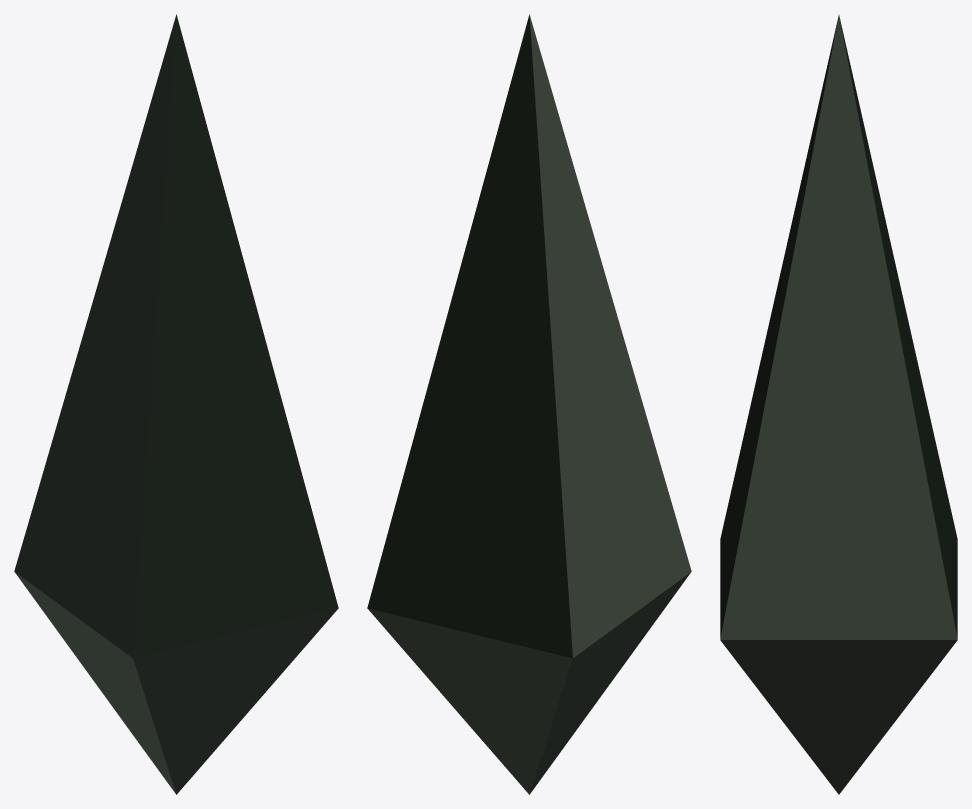
The model's file is SF_Env_BackgroundTree_02.glb.
3 views of the same model, side by side, from view 1: azimuth 30°, elevation 25°; view 2: azimuth 150°, elevation 25°; view 3: azimuth 270°, elevation 25° (orthographic).
Parts seen in each view (by area): view 1: SF_Env_BackgroundTree_02; view 2: SF_Env_BackgroundTree_02; view 3: SF_Env_BackgroundTree_02.
Part boxes in pixels (box(x1,y1,x2,y2)): SF_Env_BackgroundTree_02: box(14, 14, 338, 794); SF_Env_BackgroundTree_02: box(367, 14, 691, 794); SF_Env_BackgroundTree_02: box(720, 15, 957, 794).
Size of the model in its own units: 0.0308 by 0.1117 by 0.0308.
1 material, 1 textured.
